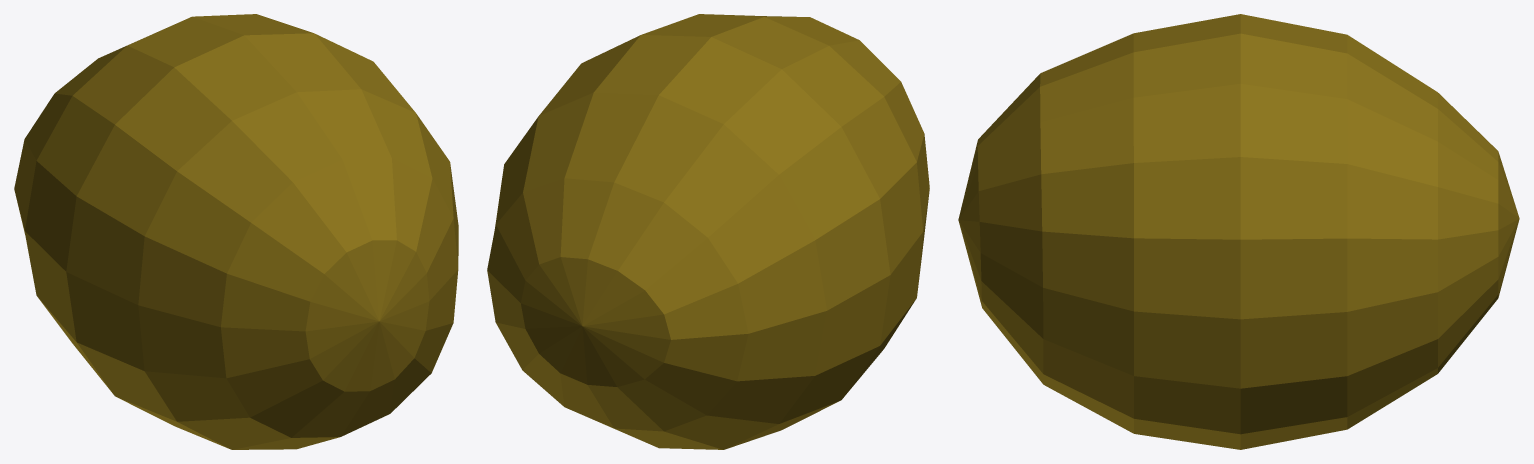
The model's file is coconut.fbx.
The picture shows the model from 3 angles, left to right: view 1: azimuth 30°, elevation 25°; view 2: azimuth 150°, elevation 25°; view 3: azimuth 270°, elevation 25°; orthographic projection. The views are drawn at different scales.
Visible parts, largest first — view 1: Husk.002; view 2: Husk.002; view 3: Husk.002.
Boxes of the visible parts, left/top/right/bottom form: Husk.002: left=14, top=14, right=458, bottom=449; Husk.002: left=487, top=14, right=929, bottom=449; Husk.002: left=958, top=14, right=1519, bottom=449.
Size of the model in its own units: 22.57 by 23.64 by 30.19.
